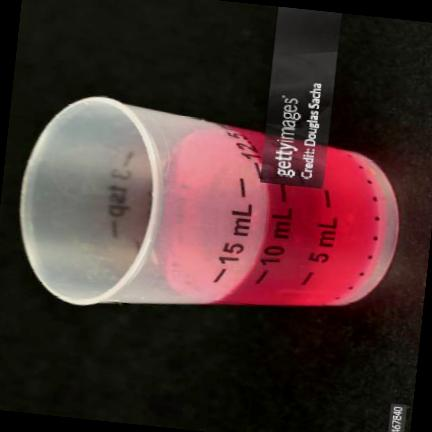container: (21, 96, 397, 305)
fluid: (216, 126, 398, 303)
fluid-surface: (160, 126, 271, 300)
